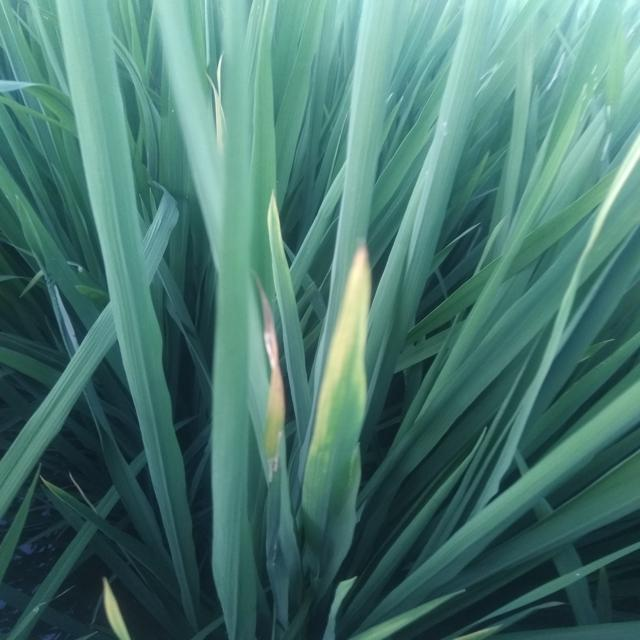Brown spot: (306, 238, 387, 520), (252, 269, 306, 483)
